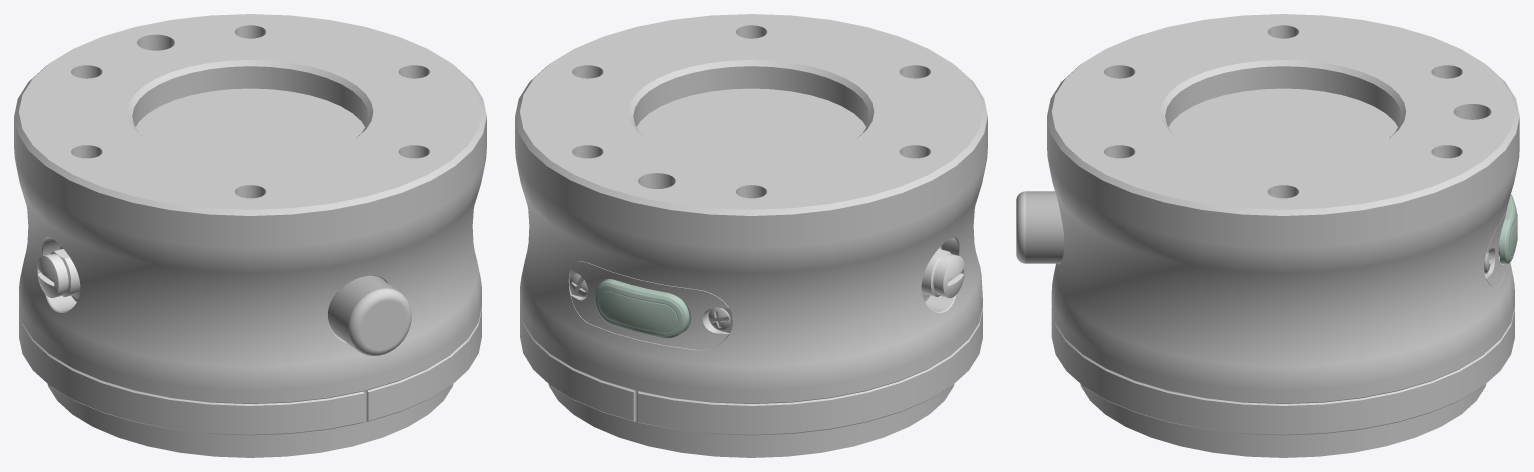
The picture shows the model from 3 angles, left to right: view 1: azimuth 30°, elevation 25°; view 2: azimuth 150°, elevation 25°; view 3: azimuth 270°, elevation 25°; orthographic projection.
Visible parts, largest first — view 1: RB20-1900ES_WRIST3; view 2: RB20-1900ES_WRIST3; view 3: RB20-1900ES_WRIST3.
Boxes of the visible parts, <box> form: RB20-1900ES_WRIST3: <box>14,14,486,457</box>; RB20-1900ES_WRIST3: <box>515,14,987,457</box>; RB20-1900ES_WRIST3: <box>1016,14,1519,457</box>.
Bounding box in the file's own units: 0.1005 × 0.1065 × 0.0605.
